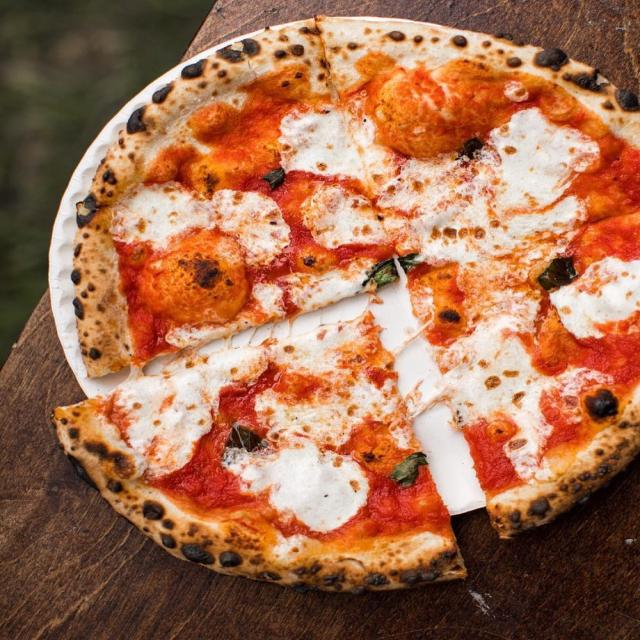basil: (392, 451, 431, 488), (227, 420, 265, 457), (538, 258, 578, 290), (366, 256, 401, 290), (260, 166, 289, 191), (397, 252, 422, 272)
pizza: (55, 18, 639, 591)
